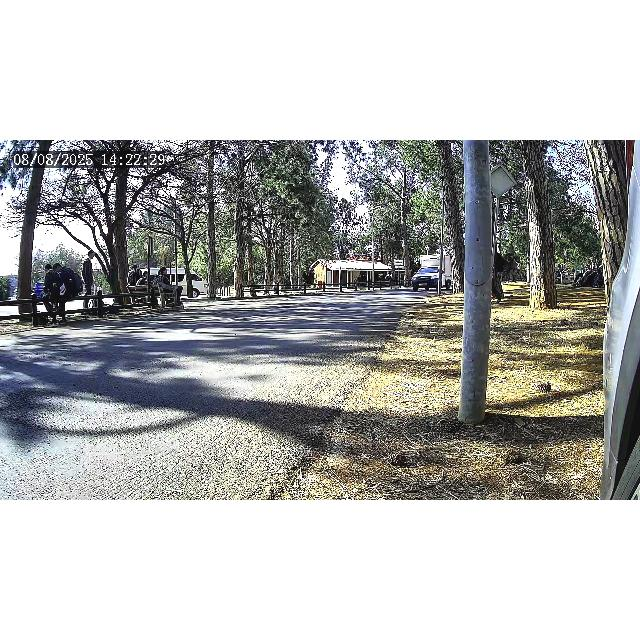car: (411, 268, 441, 292)
